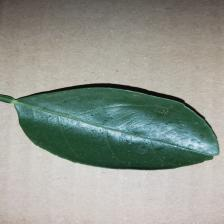healthy: (16, 89, 213, 166)
